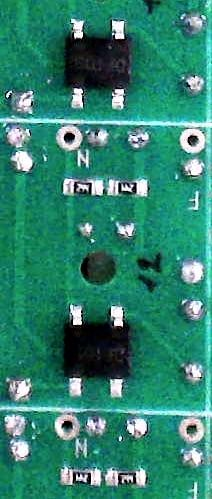chip-resistor: (57, 465, 103, 489), (106, 466, 148, 491), (108, 176, 151, 199), (62, 176, 104, 199)
ic: (60, 299, 135, 400)
